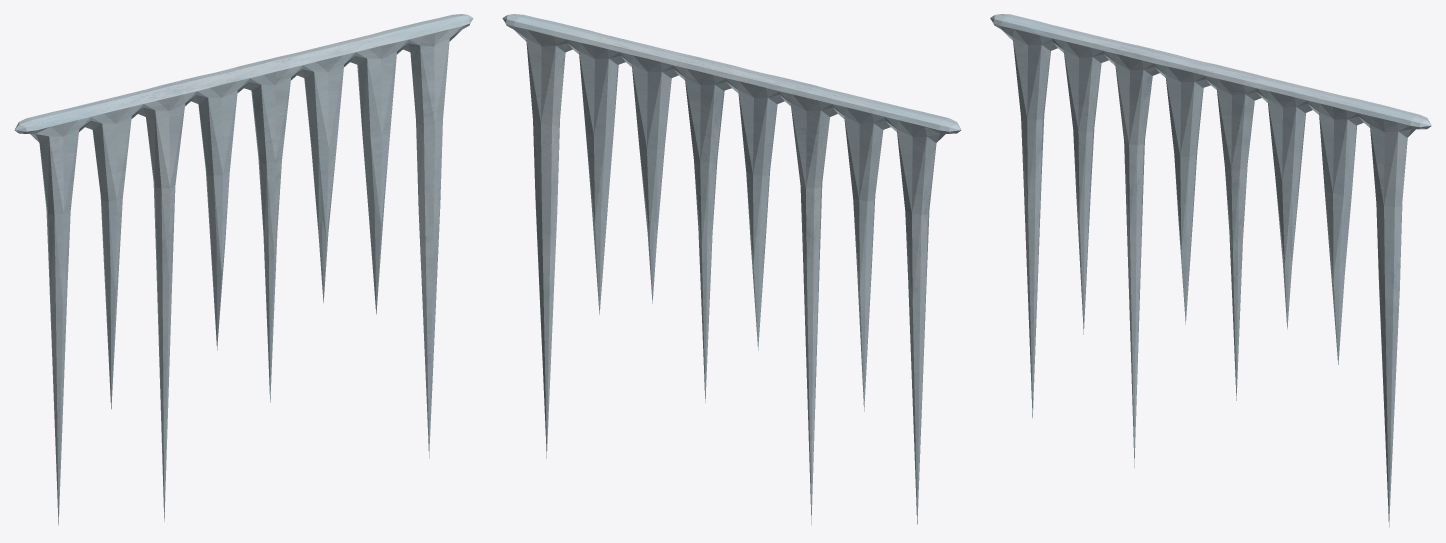
Rendered from icicle.obj.
3 renders of one model, left to right at view 1: azimuth 30°, elevation 25°; view 2: azimuth 150°, elevation 25°; view 3: azimuth 330°, elevation 25°, orthographic. The views are drawn at different scales.
Visible parts, largest first — view 1: icicle_icicle_Cube; view 2: icicle_icicle_Cube; view 3: icicle_icicle_Cube.
Part boxes in pixels (x1,y1,x2,y2): icicle_icicle_Cube: (14, 14, 473, 525); icicle_icicle_Cube: (502, 14, 961, 524); icicle_icicle_Cube: (990, 14, 1431, 527).
Size of the model in its own units: 4.08 by 3.72 by 0.1851.
1 material, 1 textured.
